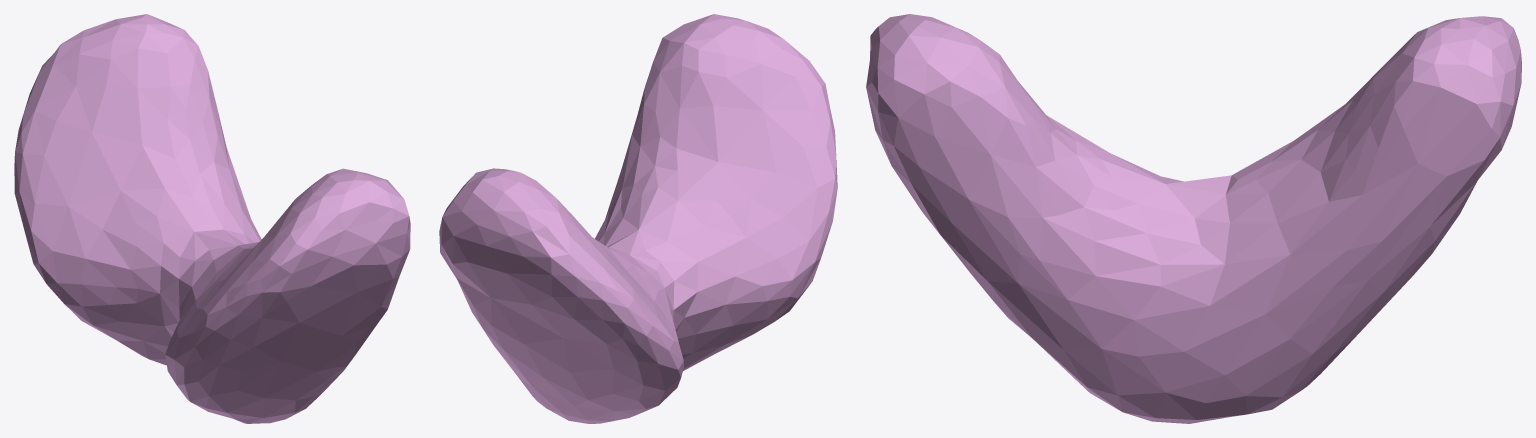
The picture shows the model from 3 angles, left to right: view 1: azimuth 30°, elevation 25°; view 2: azimuth 150°, elevation 25°; view 3: azimuth 270°, elevation 25°; orthographic projection. The views are drawn at different scales.
Parts seen in each view (by area): view 1: 634.obj; view 2: 634.obj; view 3: 634.obj.
Boxes of the visible parts, bbox=[...] form: 634.obj: bbox=[14, 14, 410, 423]; 634.obj: bbox=[439, 14, 837, 423]; 634.obj: bbox=[866, 14, 1521, 423].
Bounding box in the file's own units: 596 × 899 × 1386.
